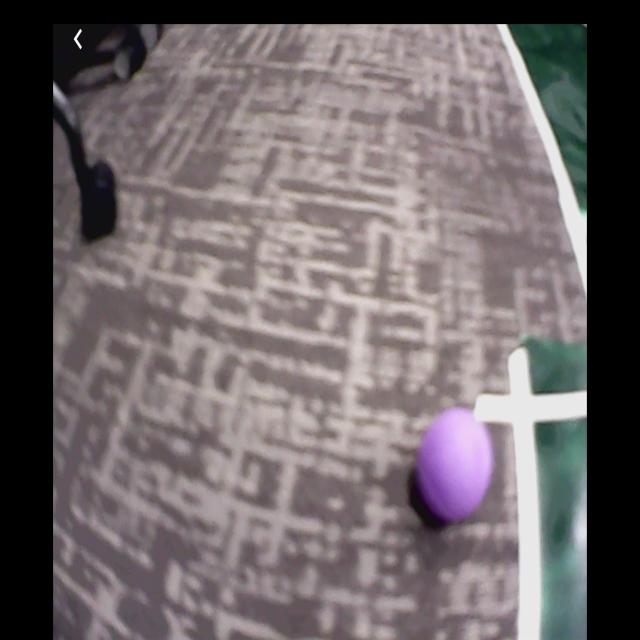ball: (415, 406, 496, 526)
